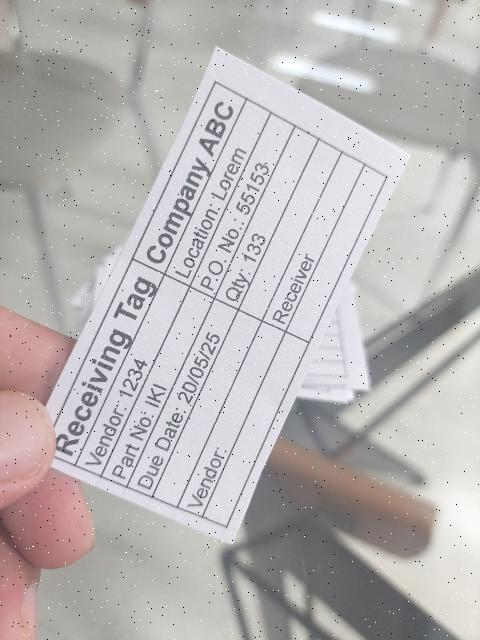PO no: (189, 113, 296, 299)
part no: (101, 286, 215, 487)
qty: (215, 126, 321, 309)
tags: (46, 48, 409, 547)
